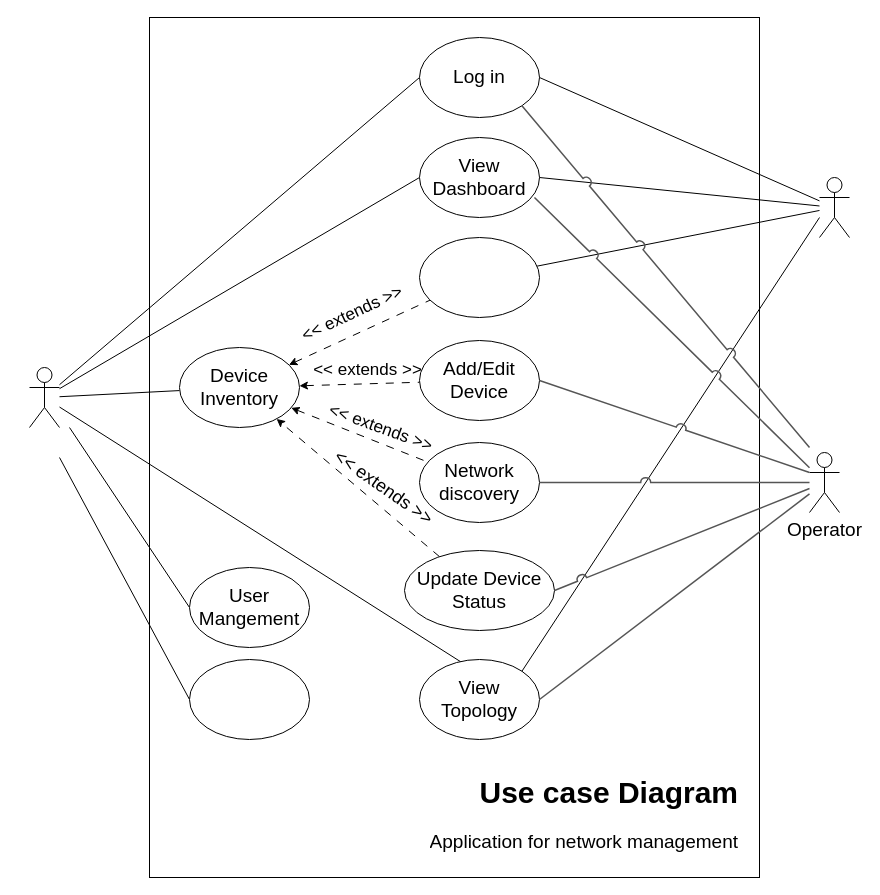
Some shapes in this 880 by 895 pixel diagram are drawn without their labels. Each missing label, with the box of its shape:
Admin: (28, 366, 60, 428)
Audit History: (188, 658, 310, 740)
View Details: (418, 236, 540, 318)
Viewer: (818, 176, 850, 238)
